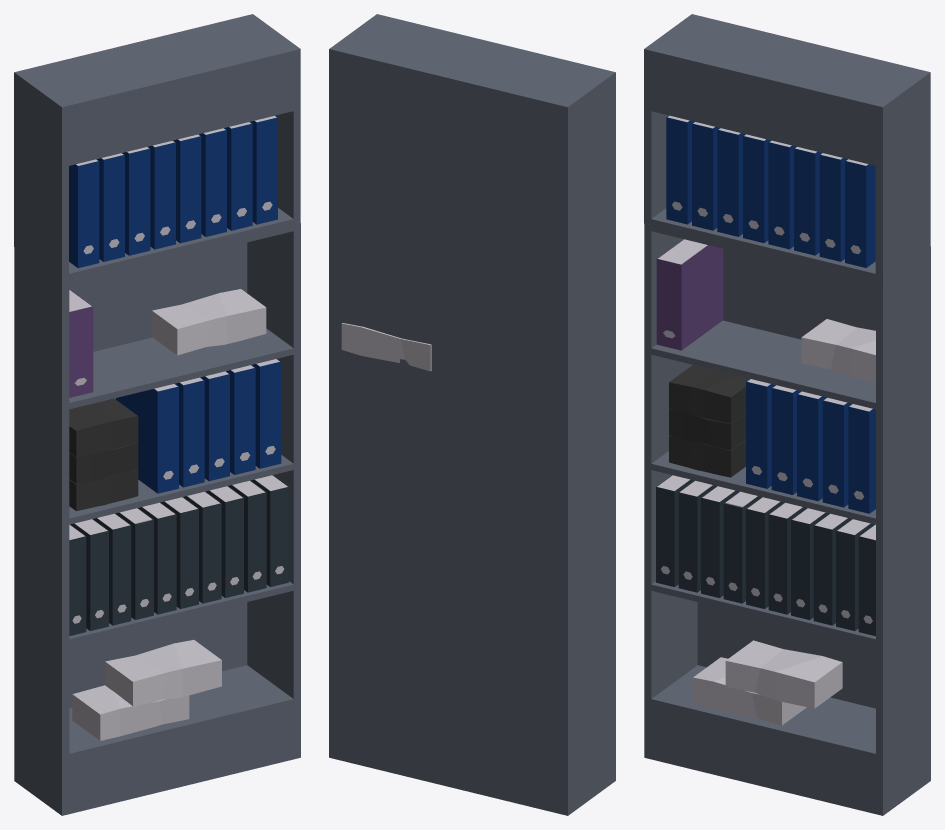
File: scene_bookshelf3.fbx
3 views of the same model, side by side, from view 1: azimuth 30°, elevation 25°; view 2: azimuth 150°, elevation 25°; view 3: azimuth 330°, elevation 25° (orthographic).
Visible parts, largest first — view 1: bookshelf3; view 2: bookshelf3; view 3: bookshelf3.
Part boxes in pixels (left/top/right/bottom): bookshelf3: left=14, top=14, right=300, bottom=815; bookshelf3: left=329, top=14, right=615, bottom=815; bookshelf3: left=644, top=14, right=930, bottom=815.
Bounding box in the file's own units: 138 × 391 × 48.97.
